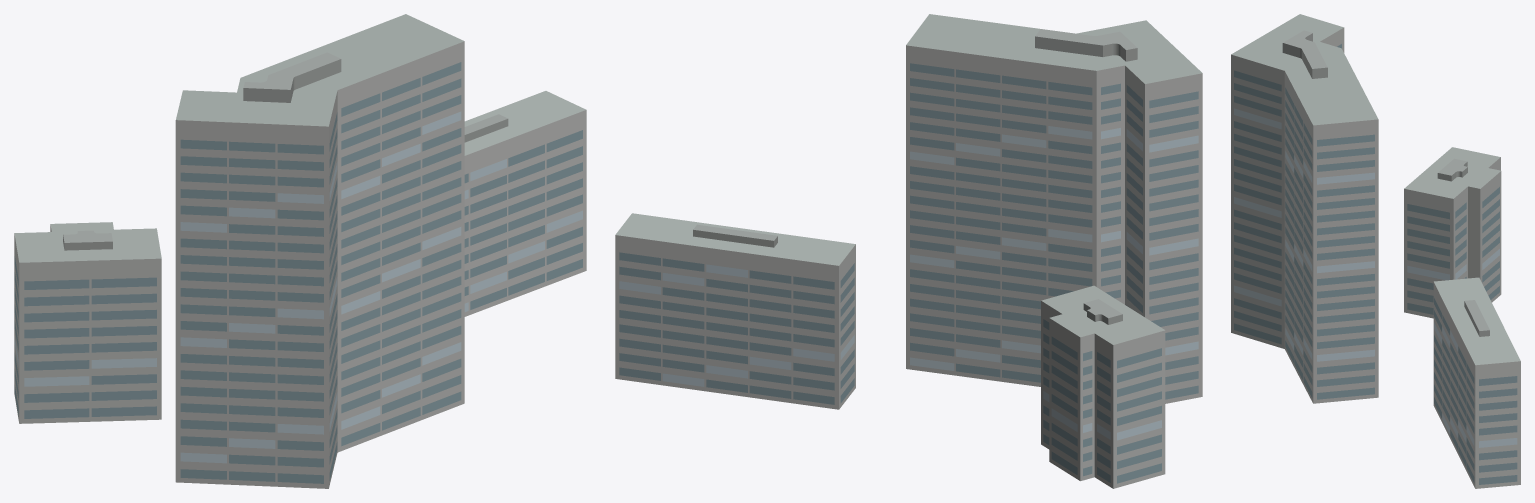
Rendered from apt-a10024258.glb.
The picture shows the model from 3 angles, left to right: view 1: azimuth 30°, elevation 25°; view 2: azimuth 150°, elevation 25°; view 3: azimuth 270°, elevation 25°; orthographic projection. The views are drawn at different scales.
Visible parts, largest first — view 1: apt-a10024258; view 2: apt-a10024258; view 3: apt-a10024258.
Part boxes in pixels (bbox=[...]): apt-a10024258: bbox=[14, 14, 586, 488]; apt-a10024258: bbox=[615, 14, 1202, 488]; apt-a10024258: bbox=[1231, 14, 1520, 488].
Size of the model in its own units: 112 by 69 by 62.9.
